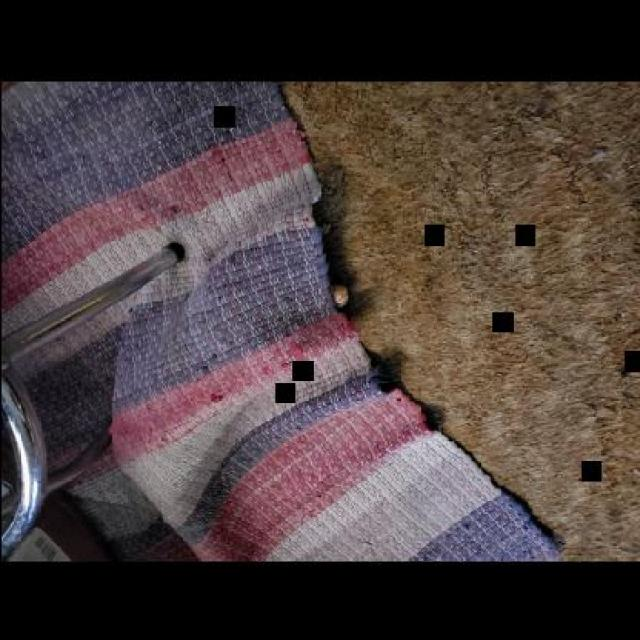unauthorized: (277, 80, 638, 560)
